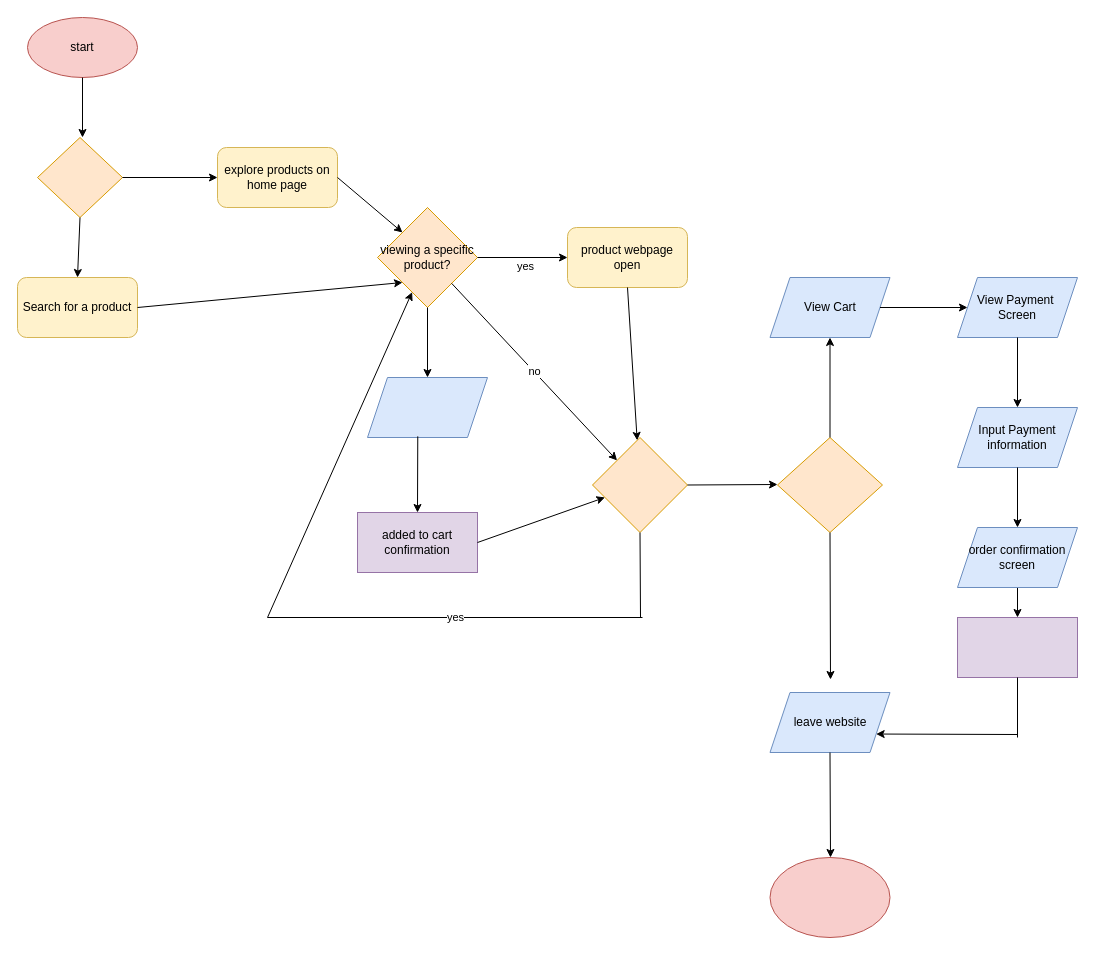
The diagram is 1095 pixels wide and 955 high, and some of its shapes have lost their labels. The shapes that lost their labels are listed below. From the top down, each one's centre as x and y in pixels, then its label:
the point at 79,177: User enters website (on home page)
the point at 427,407: place item in cart
the point at 640,484: Continue shopping?
the point at 829,484: checkout?
the point at 1017,647: order confirmation email
the point at 829,897: stop
